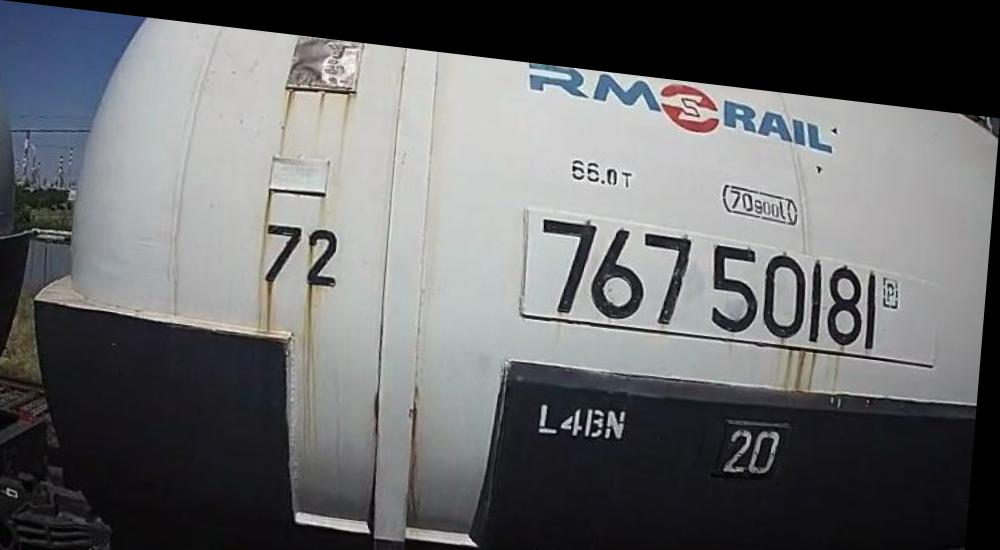Wagon-number: (538, 197, 886, 335)
